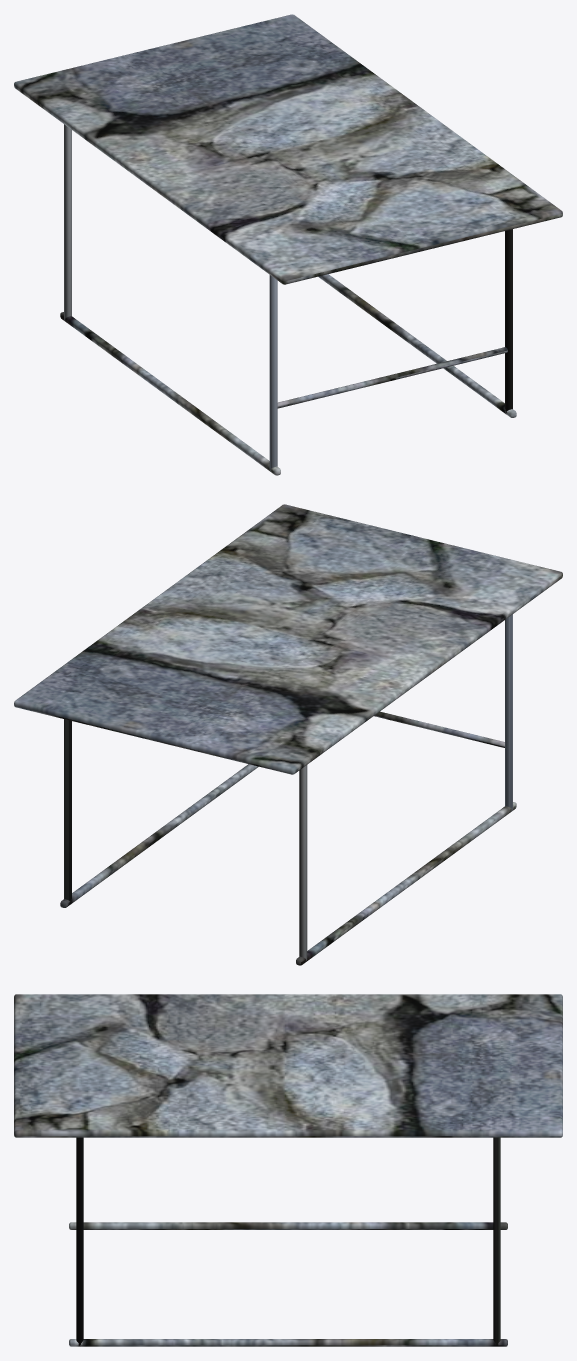
Rendered from PC_Desk.fbx.
The picture shows the model from 3 angles, top to bottom: view 1: azimuth 30°, elevation 25°; view 2: azimuth 150°, elevation 25°; view 3: azimuth 270°, elevation 25°; orthographic projection.
Visible parts, largest first — view 1: PC_Desk; view 2: PC_Desk; view 3: PC_Desk.
Boxes of the visible parts, left/top/right/bottom form: PC_Desk: left=14, top=14, right=562, bottom=475; PC_Desk: left=14, top=504, right=562, bottom=965; PC_Desk: left=14, top=994, right=562, bottom=1346.
Size of the model in its own units: 1.55 by 1.17 by 2.59.
1 material, 1 textured.
